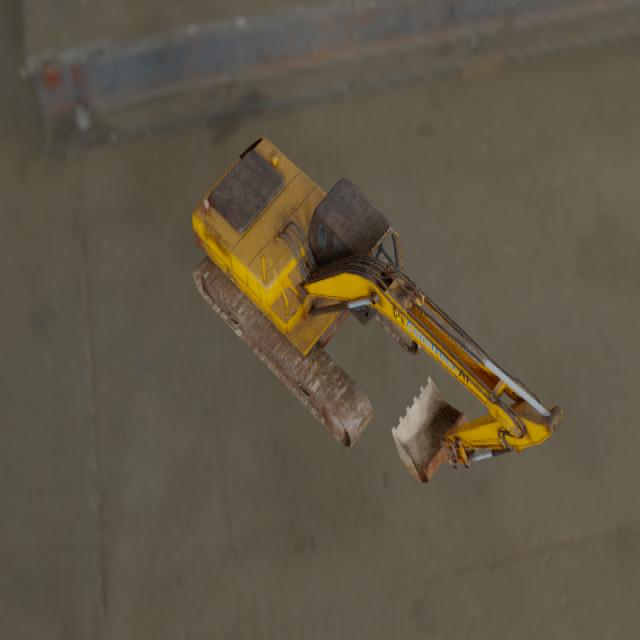excavator: (191, 136, 563, 483)
